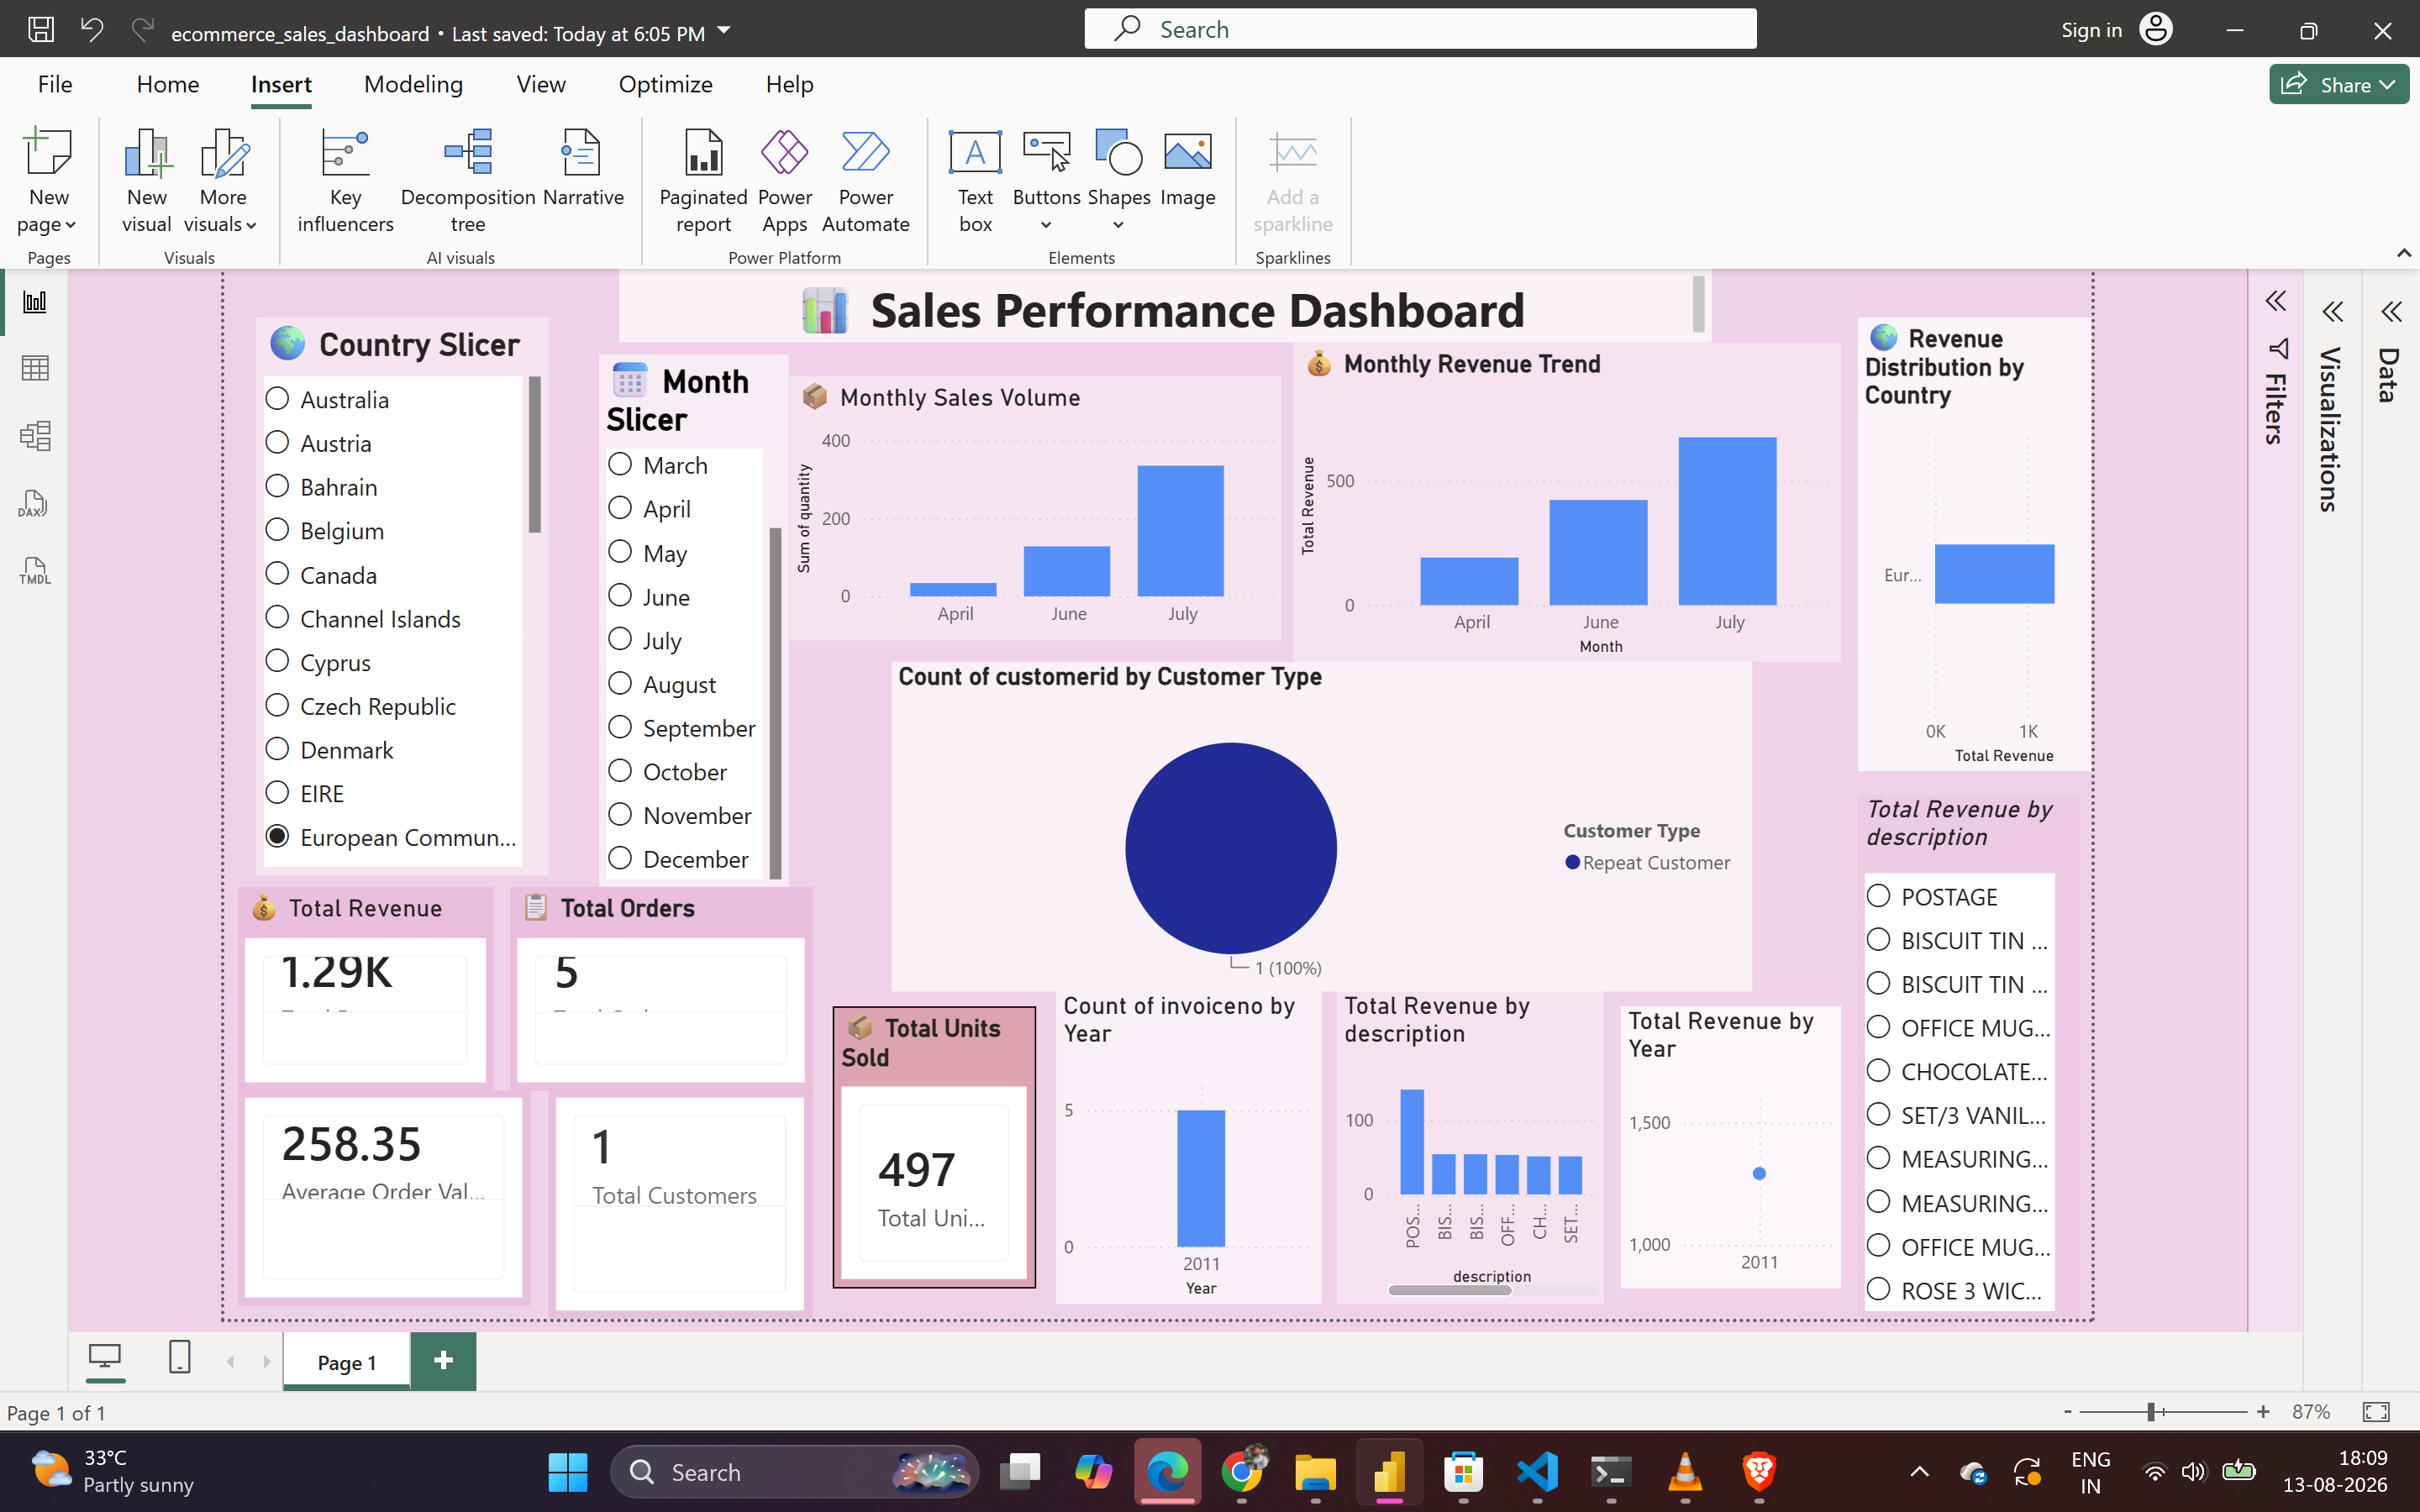

The page's visual inventory and layout, read from the dashboard file:
{"tool":"powerbi","page":{"name":"Page 1","canvas":[1280,720],"ordinal":0},"visuals":[{"type":"cardVisual","title":"💰 Total Revenue","fields":{"Data":["public online_retail.Total Revenue"]},"box":[9.2,423.9,175.1,139.4],"z":0},{"type":"cardVisual","title":"📋 Total Orders","fields":{"Data":["public online_retail.Total Orders"]},"box":[195.8,423.9,207.4,139.4],"z":1000},{"type":"cardVisual","fields":{"Data":["public online_retail.Total Customers"]},"box":[222.3,563.3,180.9,156.7],"z":2000},{"type":"cardVisual","title":"📦 Total Units Sold","fields":{"Data":["public online_retail.Total Units Sold"]},"box":[417,505.7,139.4,193.5],"z":3000},{"type":"cardVisual","fields":{"Data":["public online_retail.Average Order Value"]},"box":[9.2,563.3,200.4,147.5],"z":4000},{"type":"listSlicer","fields":{"Values":["public online_retail.description"]},"box":[1119.7,360.6,153.2,359.4],"z":6000},{"type":"clusteredColumnChart","fields":{"Category":["public online_retail.description"],"Y":["public online_retail.Total Revenue"]},"box":[762.6,495.4,183.2,214.3],"z":7000},{"type":"pieChart","fields":{"Category":["public online_retail.Customer Type"],"Y":["Count(public online_retail.customerid)"]},"box":[457.3,269.6,589.8,225.8],"z":8000},{"type":"lineChart","fields":{"Y":["public online_retail.Total Revenue"],"Category":["public online_retail.invoicedate.Variation.Date Hierarchy.Year","public online_retail.invoicedate.Variation.Date Hierarchy.Quarter","public online_retail.invoicedate.Variation.Date Hierarchy.Month","public online_retail.invoicedate.Variation.Date Hierarchy.Day"]},"box":[957.3,505.7,150.9,193.5],"z":9000},{"type":"clusteredColumnChart","fields":{"Category":["public online_retail.invoicedate.Variation.Date Hierarchy.Year","public online_retail.invoicedate.Variation.Date Hierarchy.Quarter","public online_retail.invoicedate.Variation.Date Hierarchy.Month","public online_retail.invoicedate.Variation.Date Hierarchy.Day"],"Y":["Count(public online_retail.invoiceno)"]},"box":[570.2,495.4,182,214.3],"z":10000},{"type":"clusteredColumnChart","title":"📦 Monthly Sales Volume","fields":{"Category":["public online_retail.invoicedate.Variation.Date Hierarchy.Month"],"Y":["Sum(public online_retail.quantity)"]},"box":[387.1,73.7,337.5,180.9],"z":11000},{"type":"clusteredColumnChart","title":"💰 Monthly Revenue Trend","fields":{"Y":["public online_retail.Total Revenue"],"Category":["public online_retail.invoicedate.Variation.Date Hierarchy.Month"]},"box":[732.7,50.7,375.6,218.9],"z":12000},{"type":"clusteredBarChart","title":"🌍 Revenue Distribution by Country","fields":{"Category":["public online_retail.country"],"Y":["public online_retail.Total Revenue"]},"box":[1119.7,33.4,160.1,311],"z":13000},{"type":"textbox","box":[270.7,0,748.8,50.7],"z":14000},{"type":"listSlicer","title":"🌍 Country Slicer ","fields":{"Values":["public online_retail.country"]},"box":[21.9,33.4,200.4,382.5],"z":15000},{"type":"listSlicer","title":"📅 Month Slicer ","fields":{"Values":["public online_retail.invoicedate.Variation.Date Hierarchy.Month"]},"box":[256.9,58.8,130.2,365.2],"z":16000}]}

Visuals, with their boxes on the page's 1280x720 design canvas (x1, y1, x2, y2). These are canvas units, not pixel positions in the 2420x1512 screenshot, which may show the page scaled, cropped or inside an application window:
"💰 Total Revenue" cardVisual: {"left": 9, "top": 424, "right": 184, "bottom": 563}
"📋 Total Orders" cardVisual: {"left": 196, "top": 424, "right": 403, "bottom": 563}
cardVisual - public online_retail.Total Customers: {"left": 222, "top": 563, "right": 403, "bottom": 720}
"📦 Total Units Sold" cardVisual: {"left": 417, "top": 506, "right": 556, "bottom": 699}
cardVisual - public online_retail.Average Order Value: {"left": 9, "top": 563, "right": 210, "bottom": 711}
listSlicer - public online_retail.description: {"left": 1120, "top": 361, "right": 1273, "bottom": 720}
clusteredColumnChart - public online_retail.description x public online_retail.Total Revenue: {"left": 763, "top": 495, "right": 946, "bottom": 710}
pieChart - public online_retail.Customer Type x Count(public online_retail.customerid): {"left": 457, "top": 270, "right": 1047, "bottom": 495}
lineChart - public online_retail.Total Revenue x public online_retail.invoicedate.Variation.Date Hierarchy.Year: {"left": 957, "top": 506, "right": 1108, "bottom": 699}
clusteredColumnChart - public online_retail.invoicedate.Variation.Date Hierarchy.Year x public online_retail.invoicedate.Variation.Date Hierarchy.Quarter: {"left": 570, "top": 495, "right": 752, "bottom": 710}
"📦 Monthly Sales Volume" clusteredColumnChart: {"left": 387, "top": 74, "right": 725, "bottom": 255}
"💰 Monthly Revenue Trend" clusteredColumnChart: {"left": 733, "top": 51, "right": 1108, "bottom": 270}
"🌍 Revenue Distribution by Country" clusteredBarChart: {"left": 1120, "top": 33, "right": 1280, "bottom": 344}
textbox: {"left": 271, "top": 0, "right": 1020, "bottom": 51}
"🌍 Country Slicer " listSlicer: {"left": 22, "top": 33, "right": 222, "bottom": 416}
"📅 Month Slicer " listSlicer: {"left": 257, "top": 59, "right": 387, "bottom": 424}
